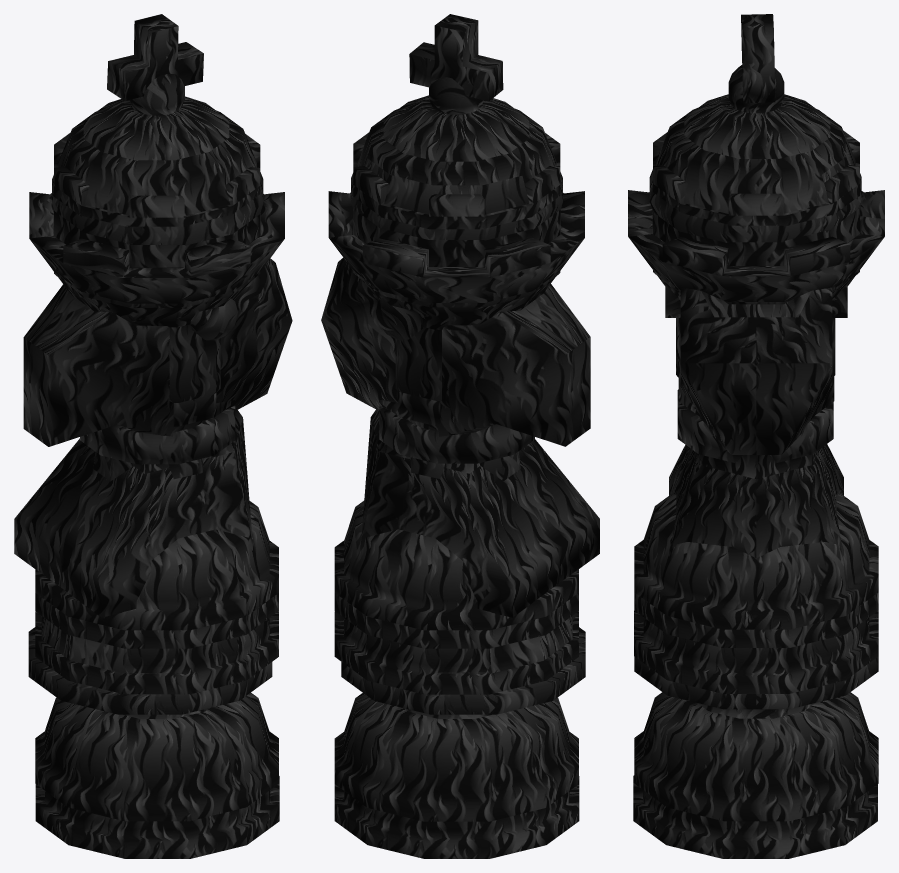
Rendered from Bishop.glb.
The picture shows the model from 3 angles, left to right: view 1: azimuth 30°, elevation 25°; view 2: azimuth 150°, elevation 25°; view 3: azimuth 270°, elevation 25°; orthographic projection.
Parts seen in each view (by area): view 1: Knight, Queen, King, Rook, Bishop, Pawn; view 2: Knight, Queen, King, Rook, Bishop, Pawn; view 3: Queen, Knight, Rook, King, Bishop, Pawn.
Boxes of the visible parts, x1,y1,x2,y2 form: Knight: [14, 258, 292, 714]; Queen: [29, 74, 284, 821]; King: [35, 14, 279, 858]; Rook: [35, 133, 278, 630]; Bishop: [35, 611, 278, 694]; Pawn: [35, 593, 278, 648]; Knight: [321, 257, 599, 714]; Queen: [328, 76, 584, 821]; King: [334, 14, 579, 858]; Rook: [334, 132, 578, 630]; Bishop: [334, 611, 578, 694]; Pawn: [334, 593, 578, 648]; Queen: [628, 65, 884, 821]; Knight: [634, 284, 878, 709]; Rook: [634, 130, 878, 629]; King: [633, 14, 877, 858]; Bishop: [634, 610, 878, 693]; Pawn: [634, 592, 878, 647].
Size of the model in its own units: 0.1378 by 0.4453 by 0.1318.
Materials: 1 (1 with a texture image).
